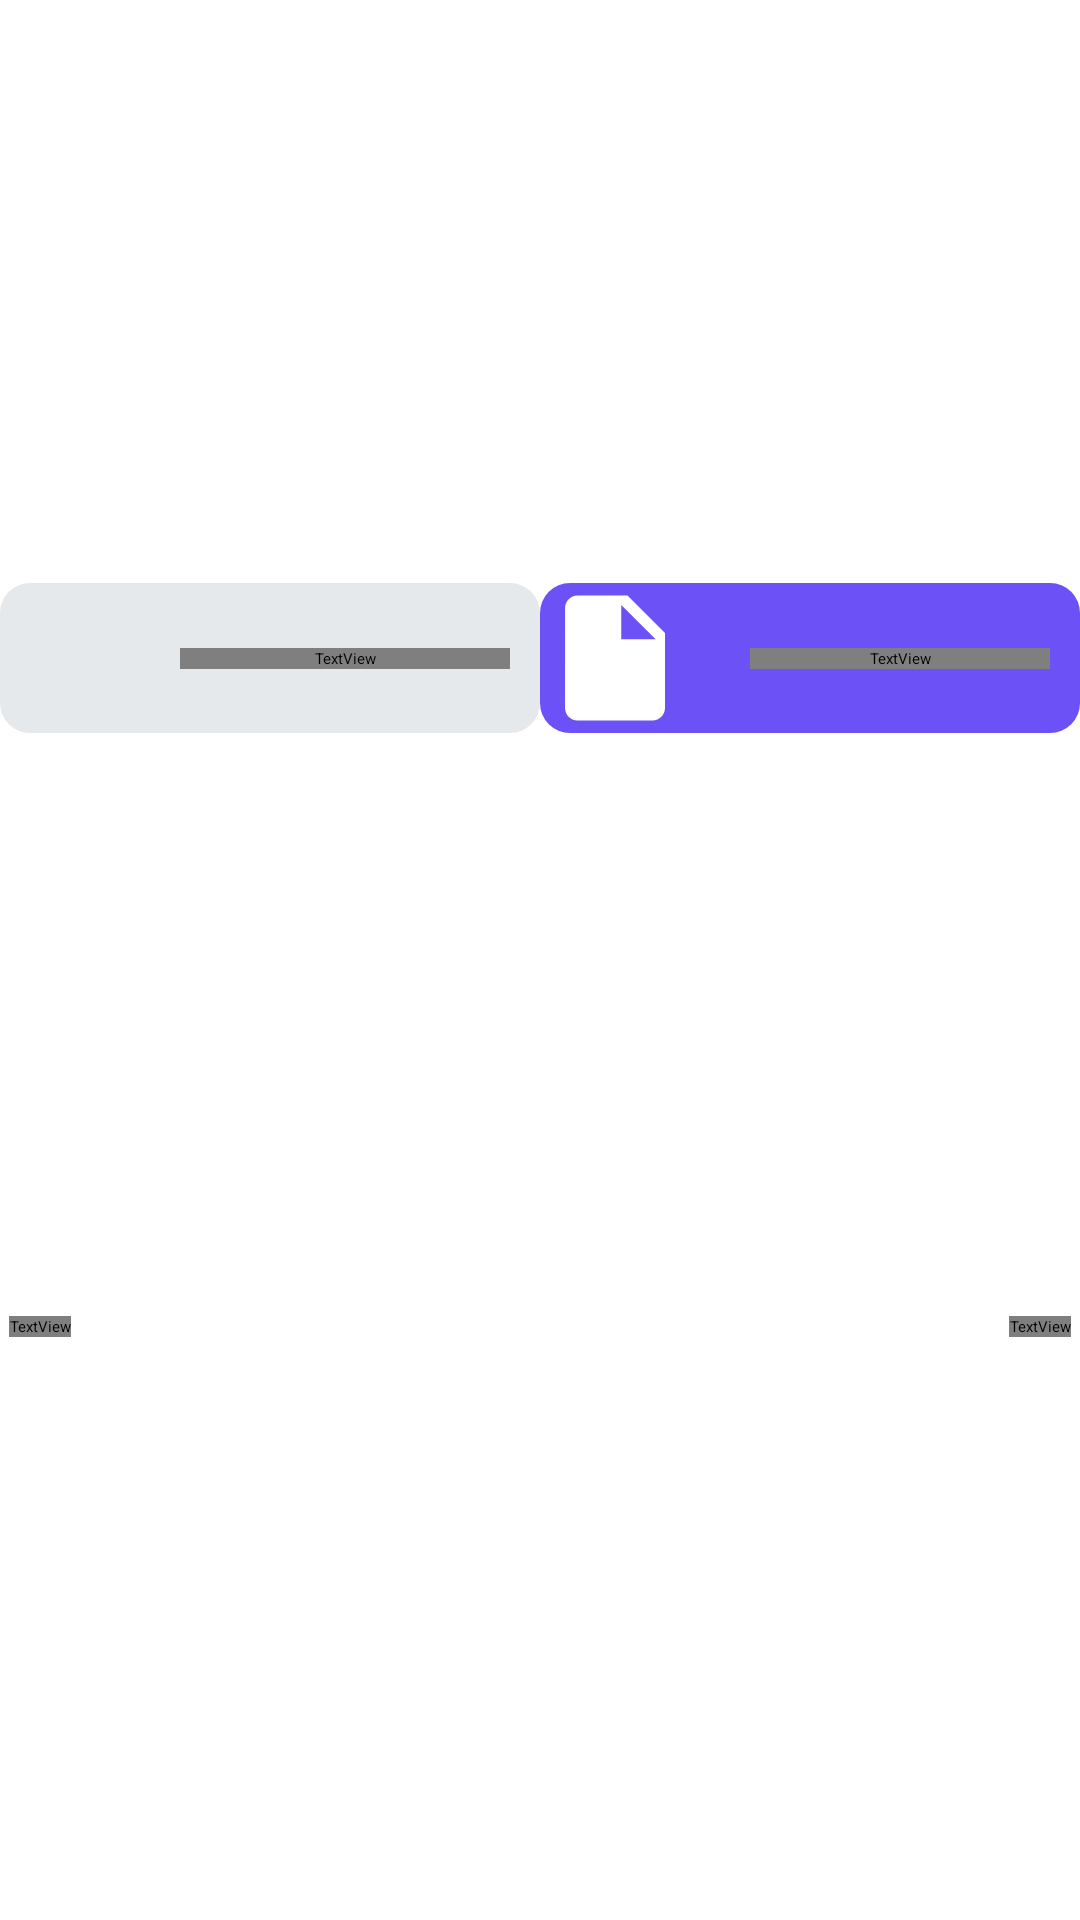

Icons on this 1080×1920 Android screen, each with the point to tap as [x,y]:
file: [615,658]
